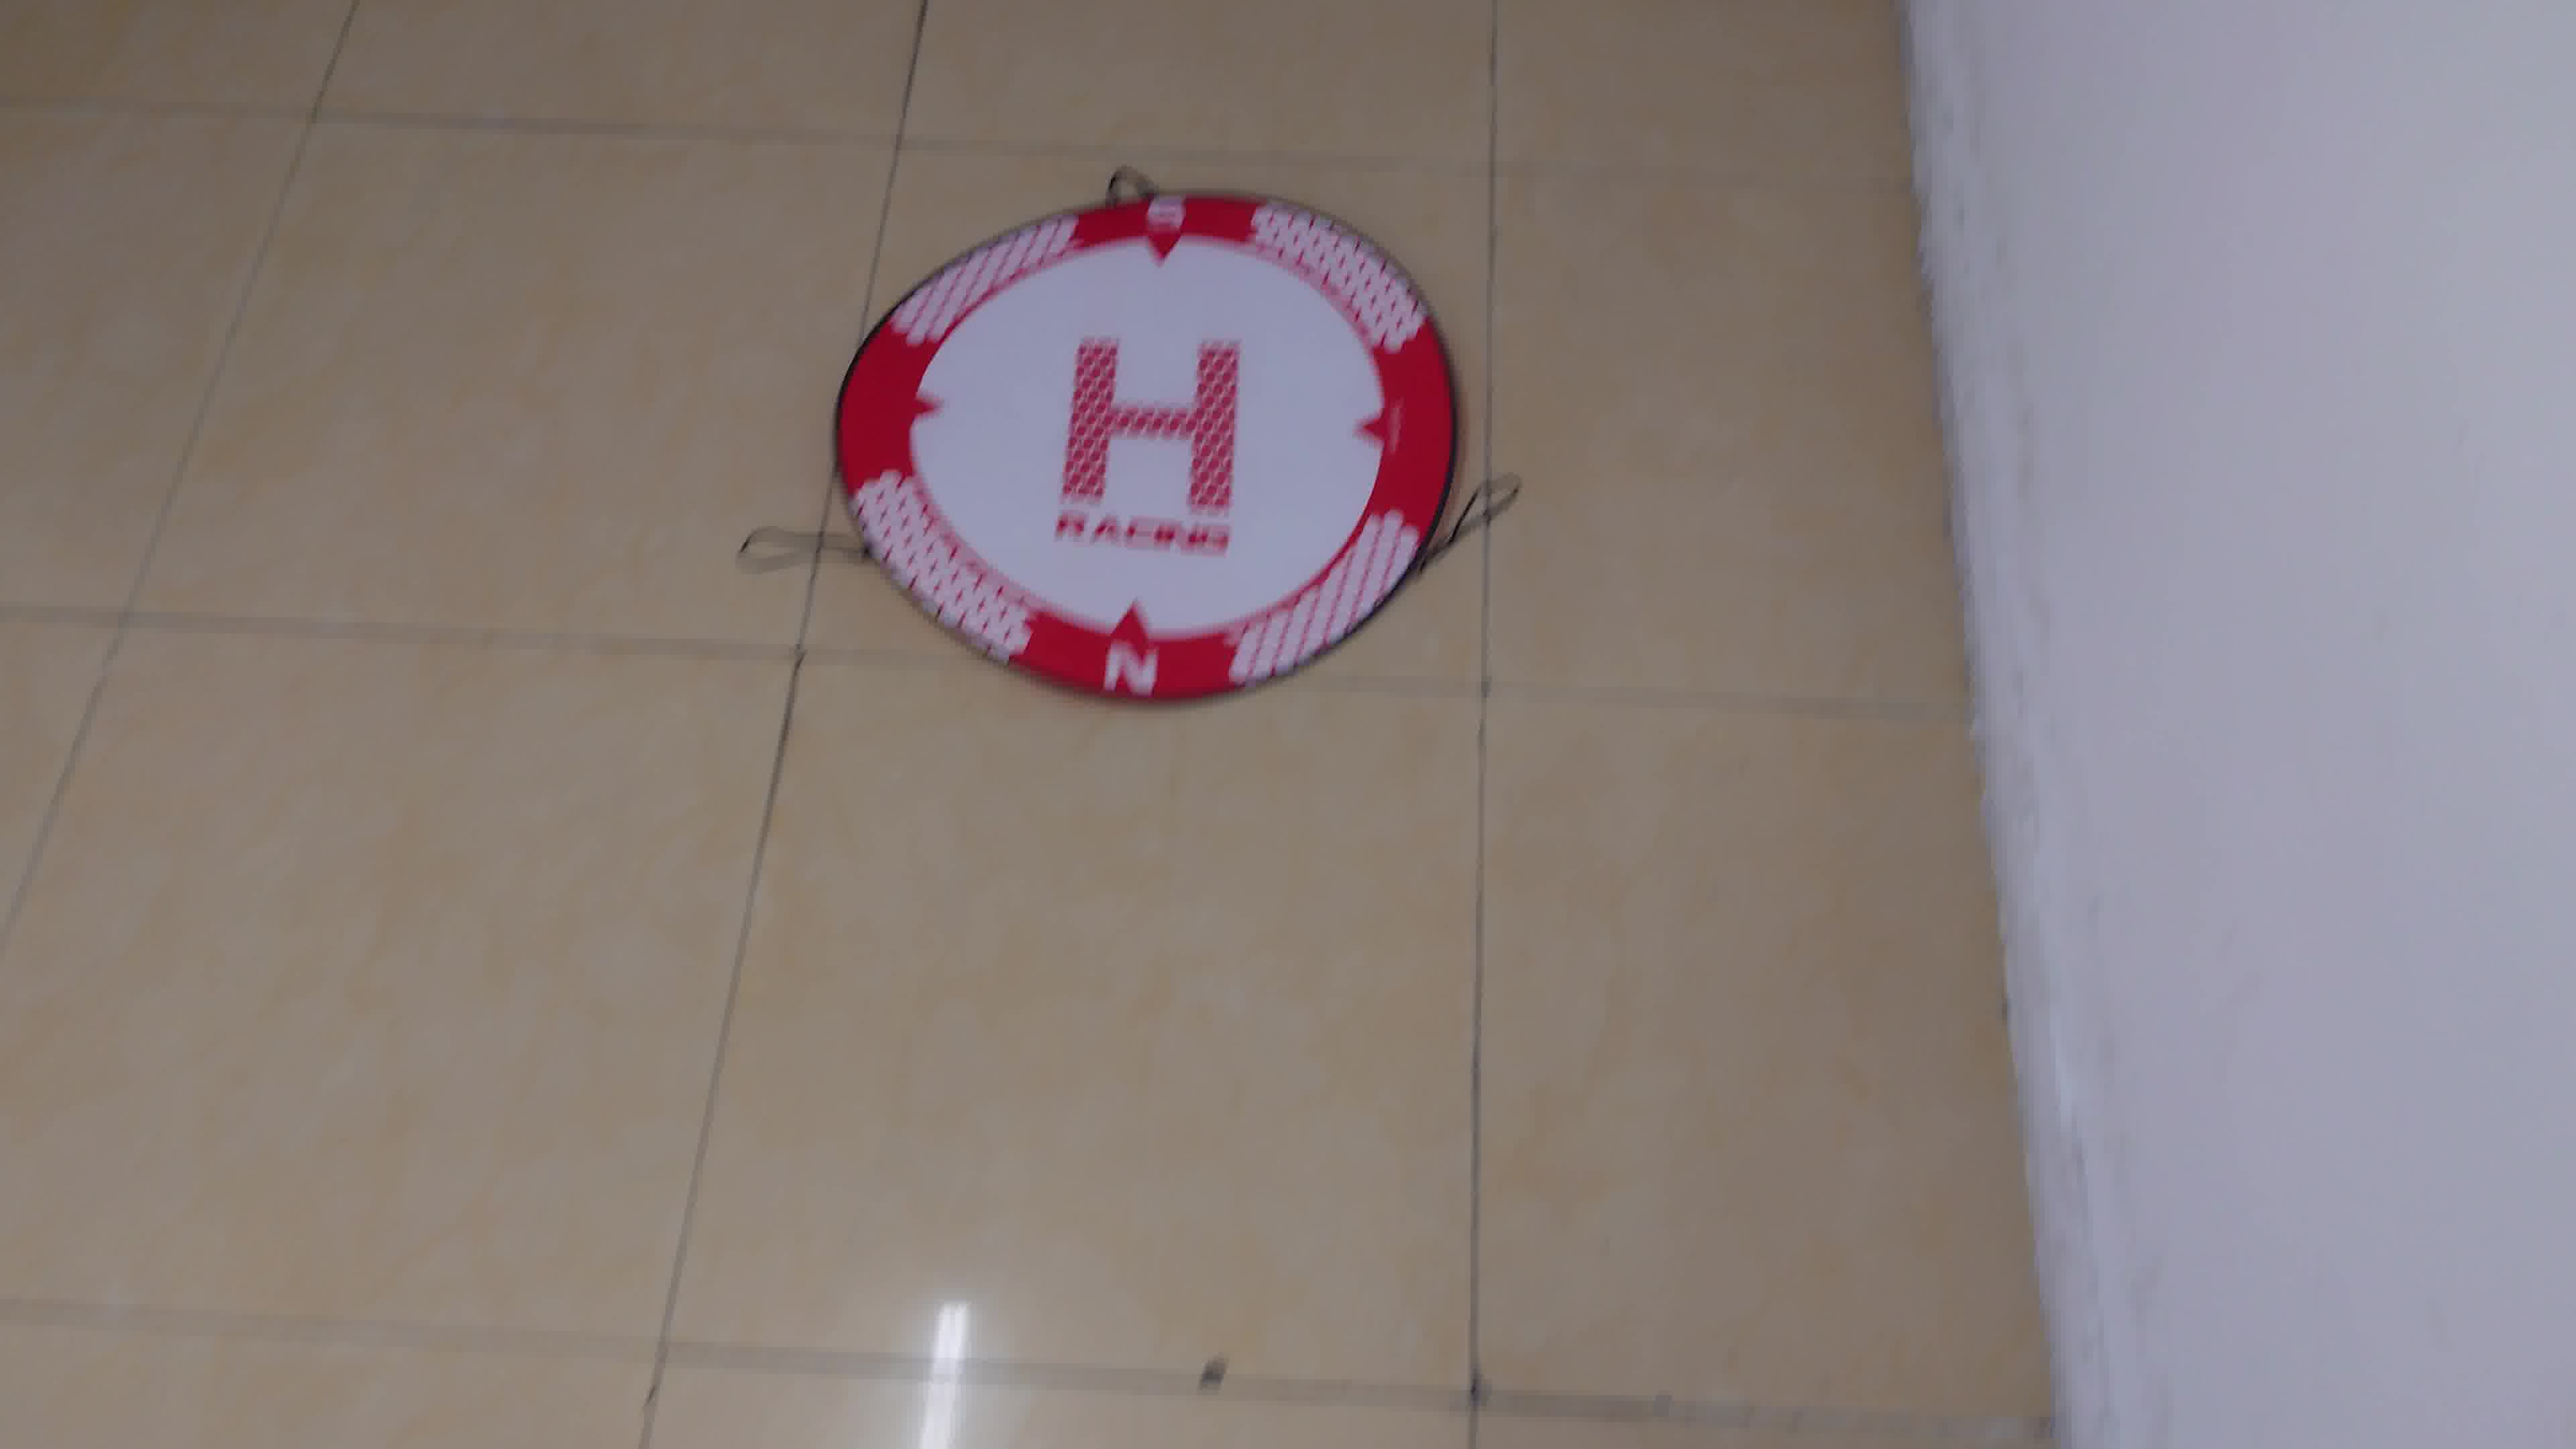H: (1062, 338, 1238, 511)
